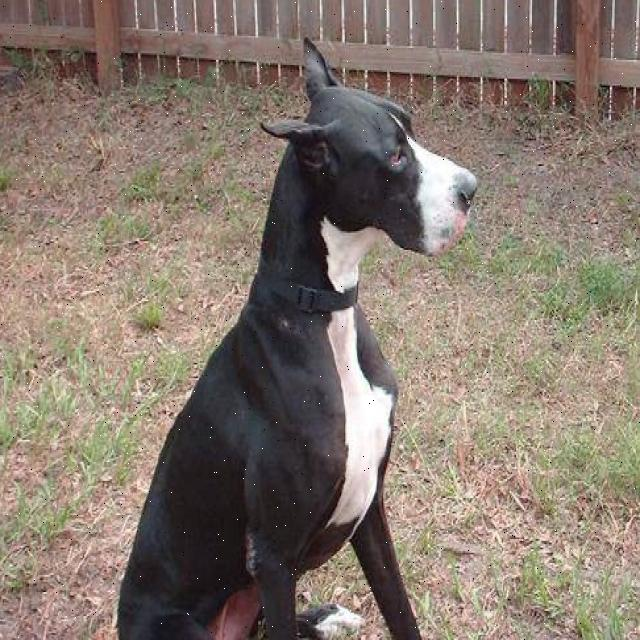Dog: (258, 30, 483, 264)
